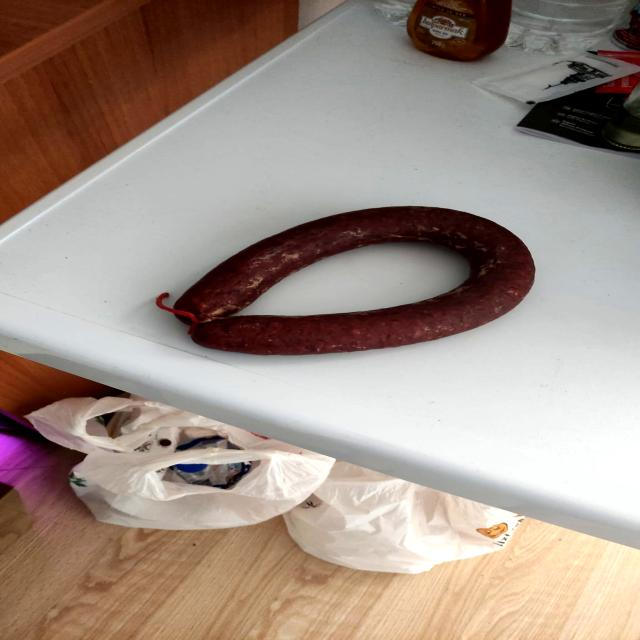sausage: (150, 201, 553, 361)
